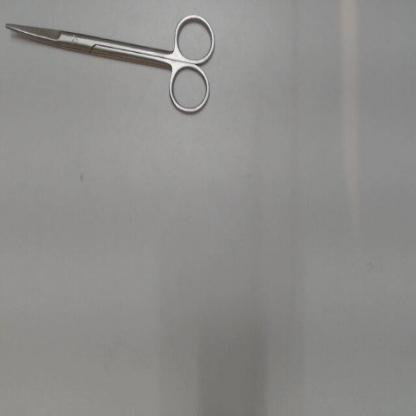Curved Mayo Scissors: (2, 10, 220, 123)
